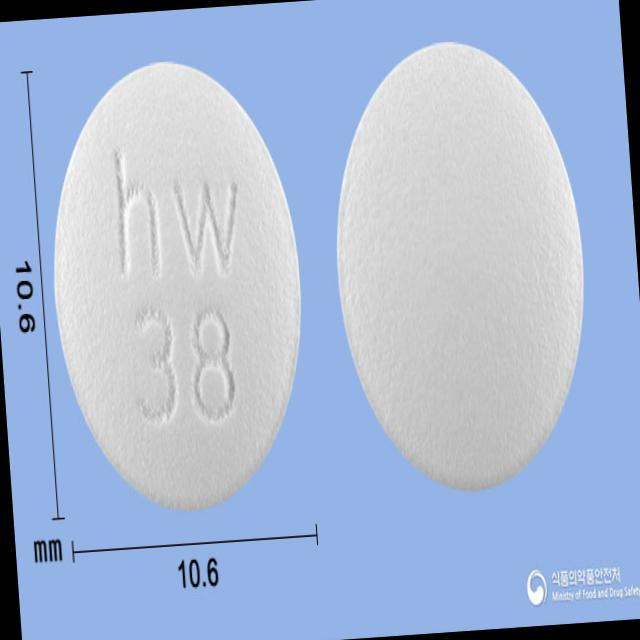Cirokan: (35, 45, 322, 528)
